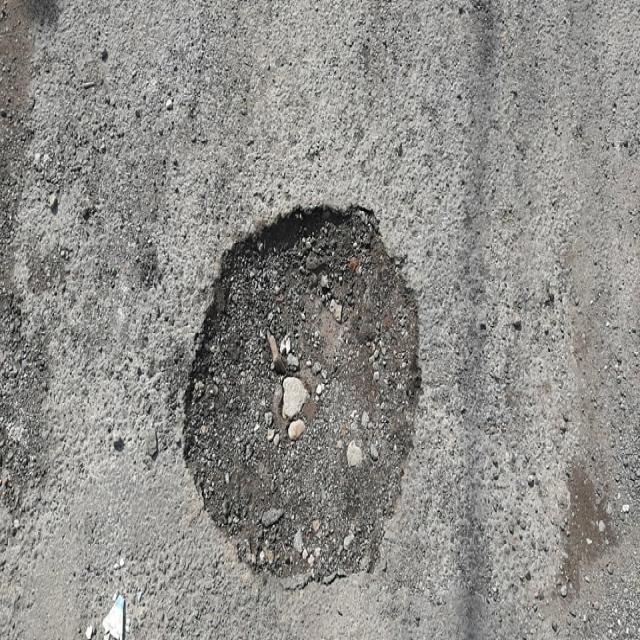Pothole: (185, 208, 420, 584)
